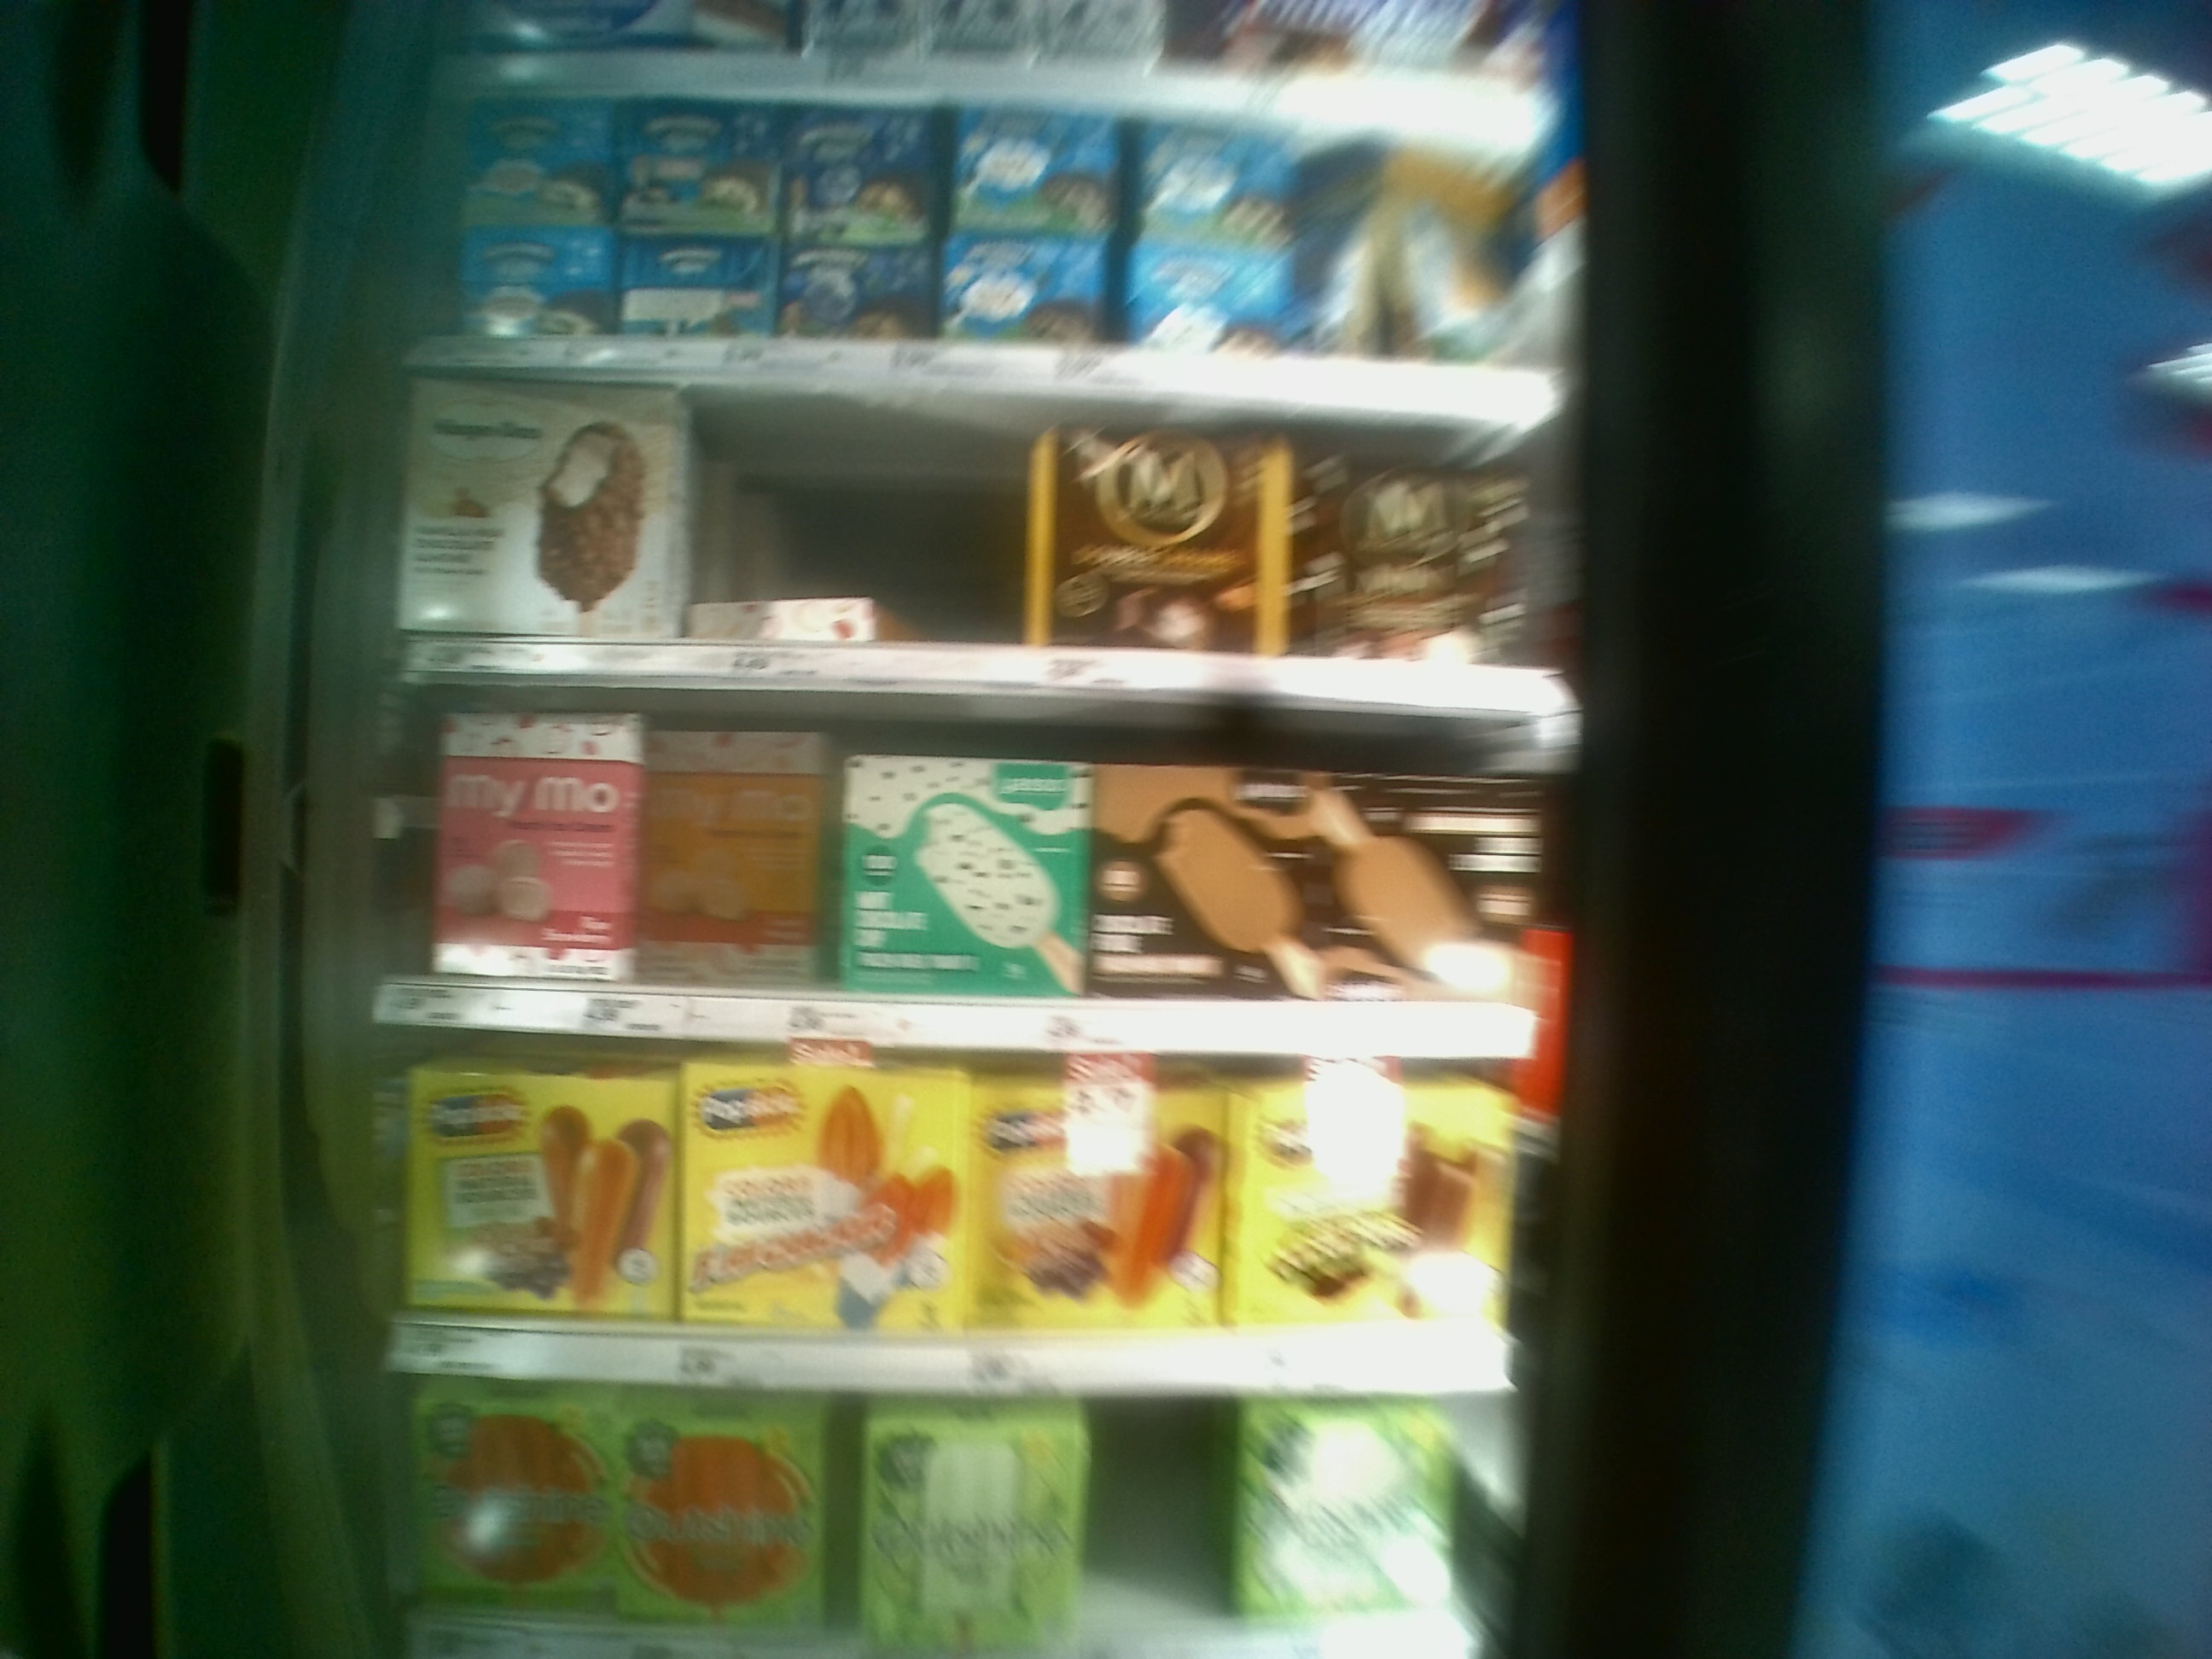ice-cream-shelf: (366, 1033, 1536, 1399), (366, 699, 1559, 1049), (395, 368, 1571, 708)
